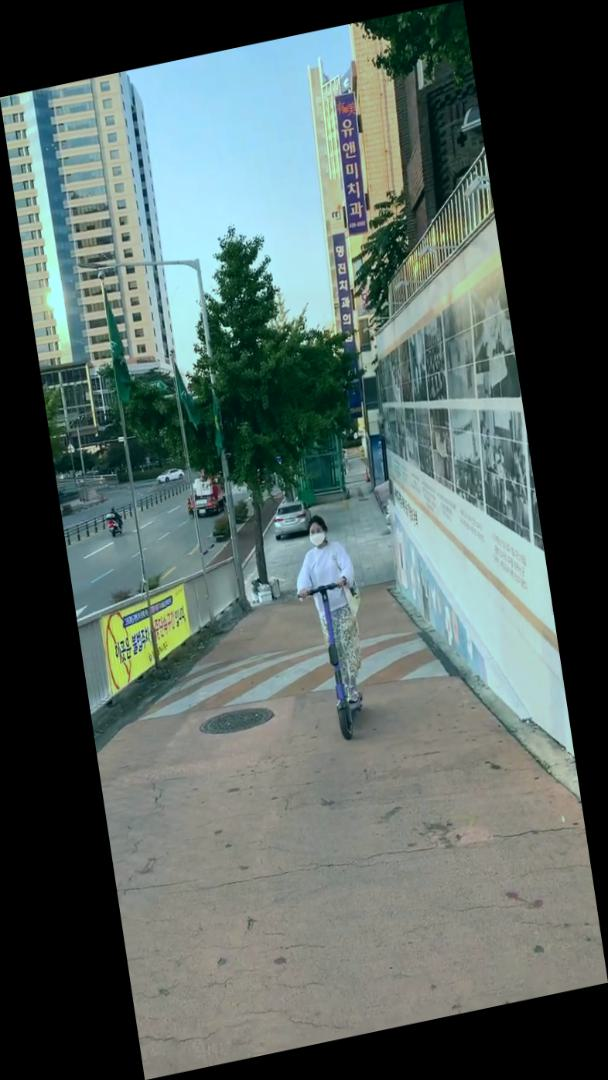nonhelmet: (286, 507, 384, 750)
